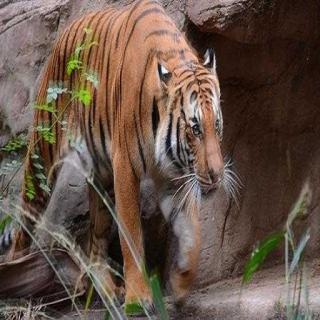Tiger: (4, 1, 244, 299)
